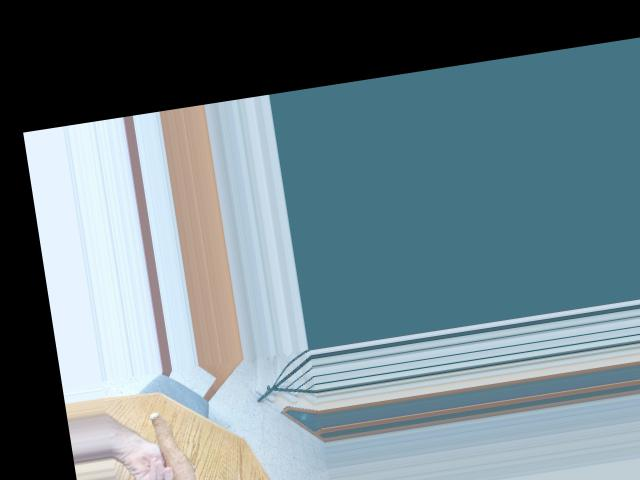sweet_potato: (144, 405, 205, 480)
